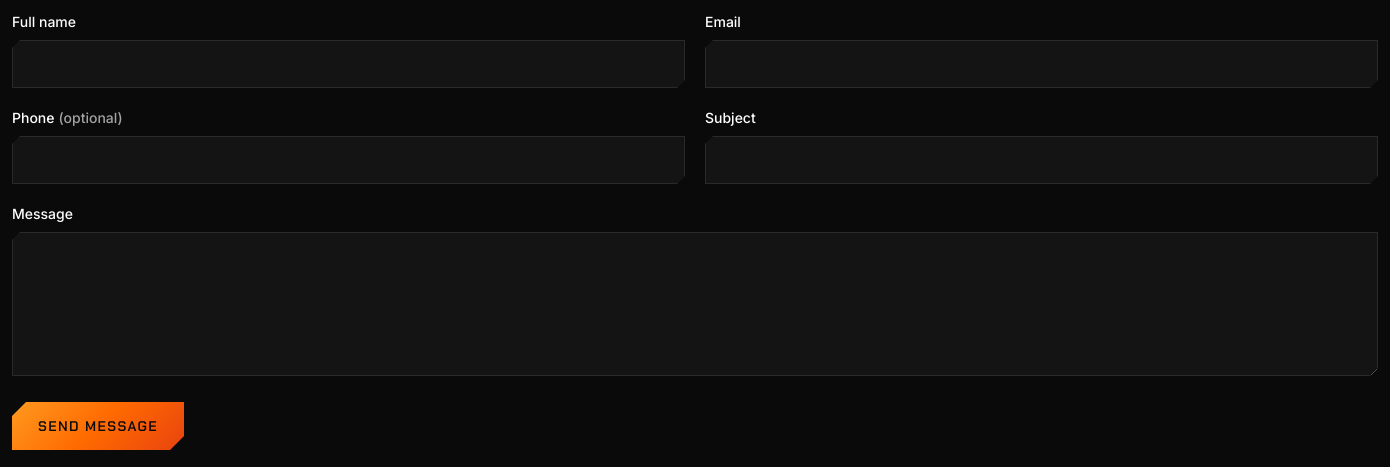
it: ContactForm › submits to the API and shows the success state
Type "Ayesha Malik" into the field labelled "Full name".
click(348, 64); type("Ayesha Malik")  # box 12,40 -> 685,88
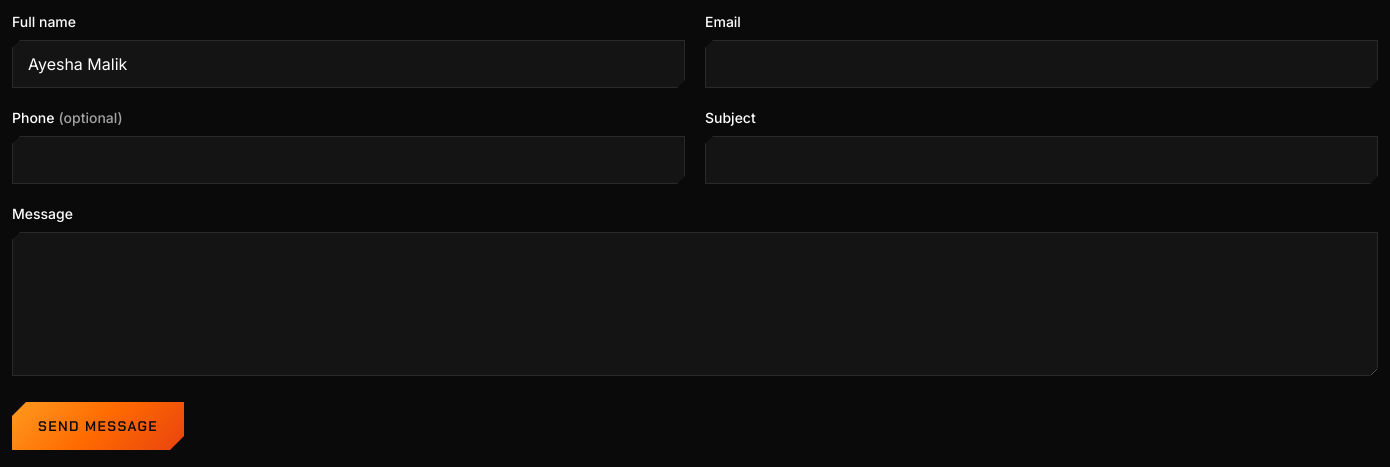
Type "ayesha@example.com" into the field labelled "Email".
click(1042, 64); type("ayesha@example.com")  # box 705,40 -> 1378,88
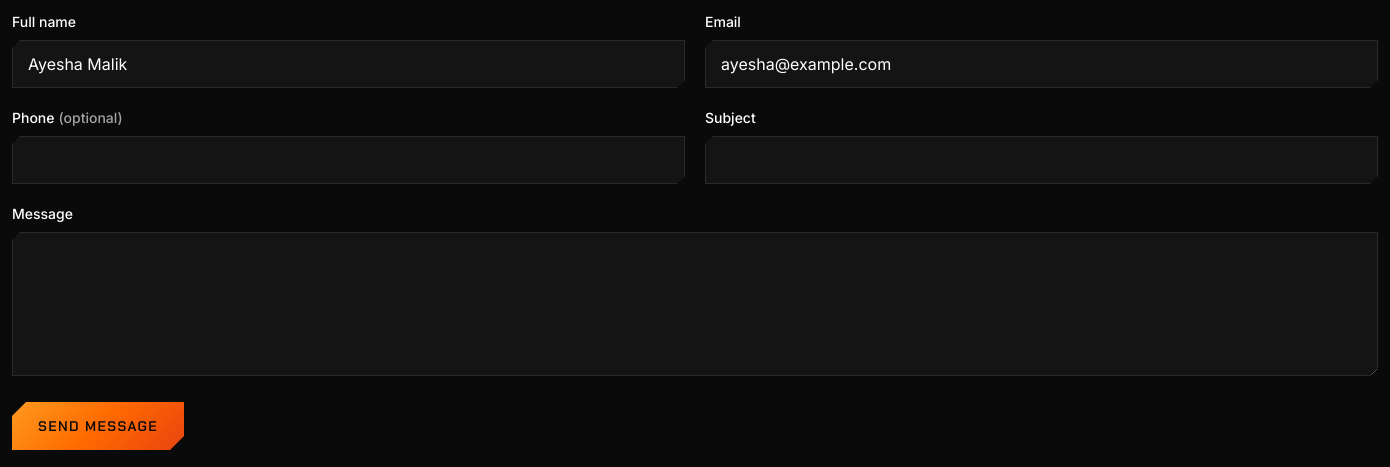
Type "Pricing for a QA tester" into the field labelled "Subject".
click(1042, 160); type("Pricing for a QA tester")  # box 705,136 -> 1378,184
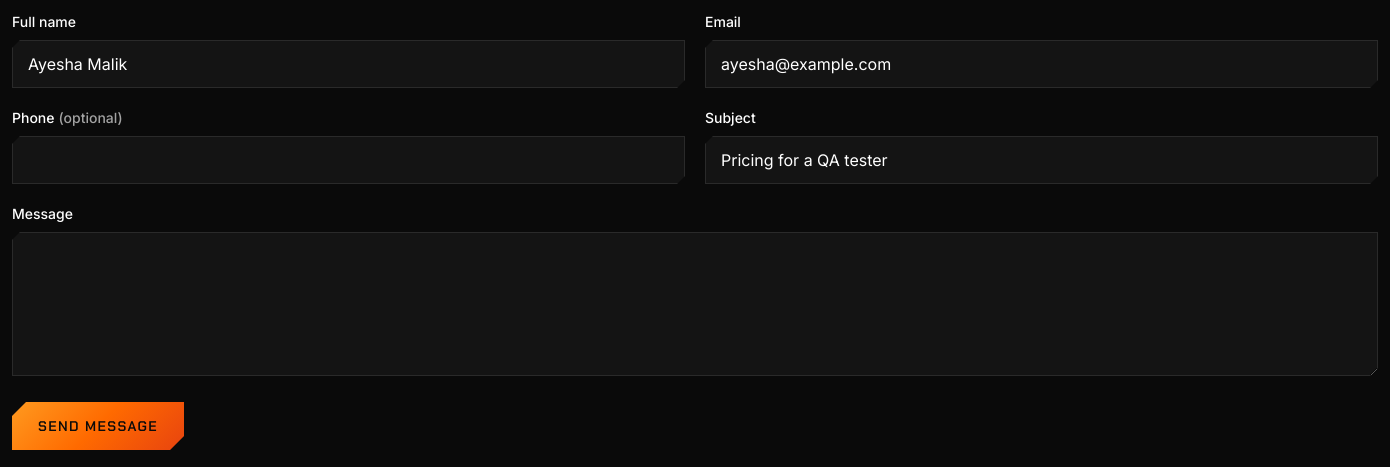
Type "We need one QA tester for three months, on-site in Lahore." into the text box labelled "Message".
click(695, 304); type("We need one QA tester for three months, on-site in Lahore.")  # box 12,232 -> 1378,376
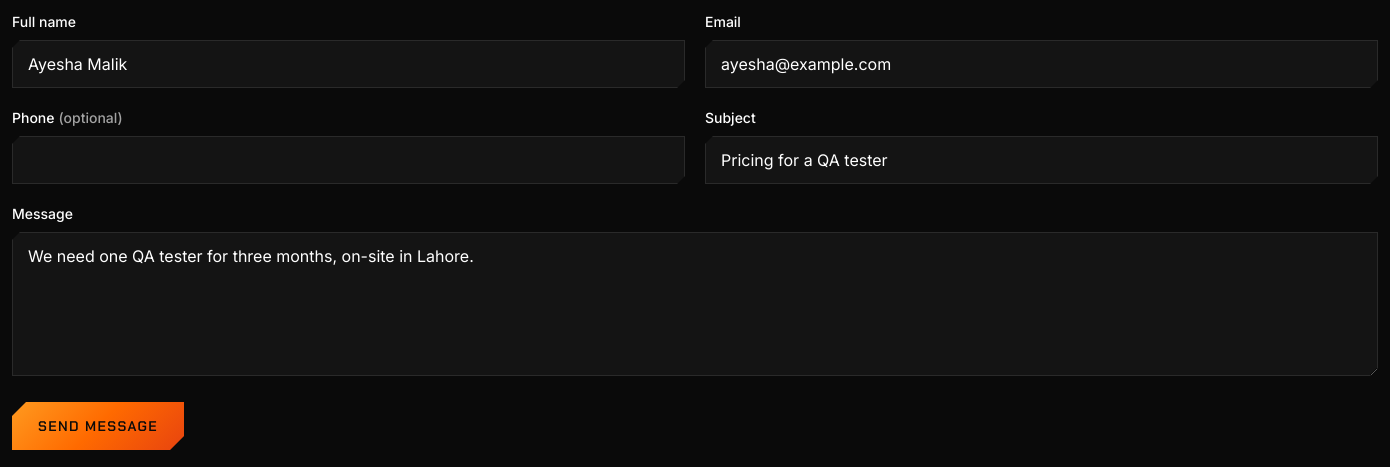
Click the button "Send message".
click(98, 426)  # box 12,402 -> 184,450
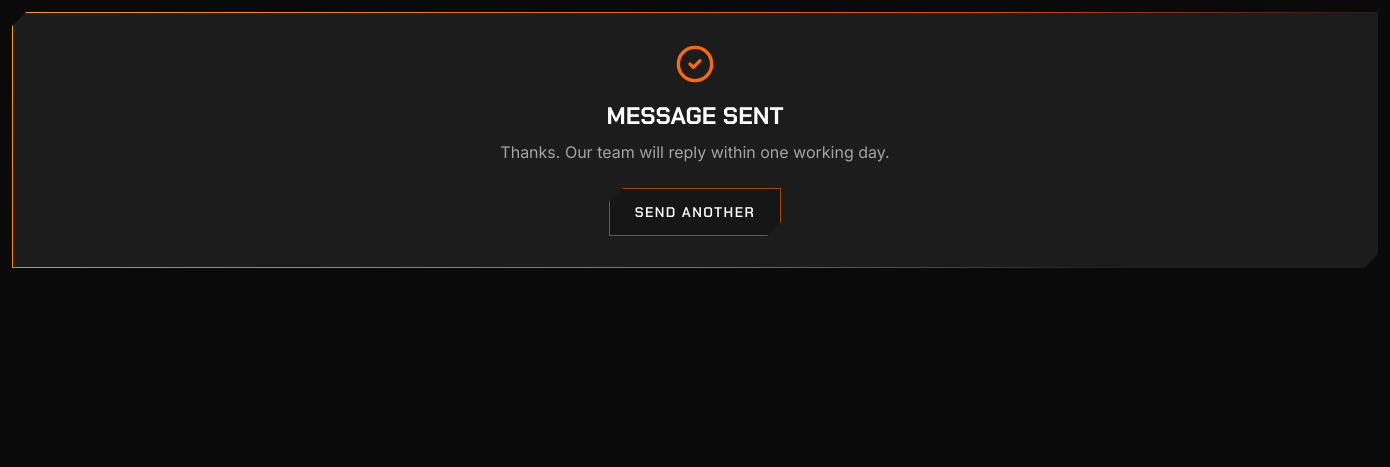
Check: the heading "Message sent" is shown, box 606,100 -> 783,131
